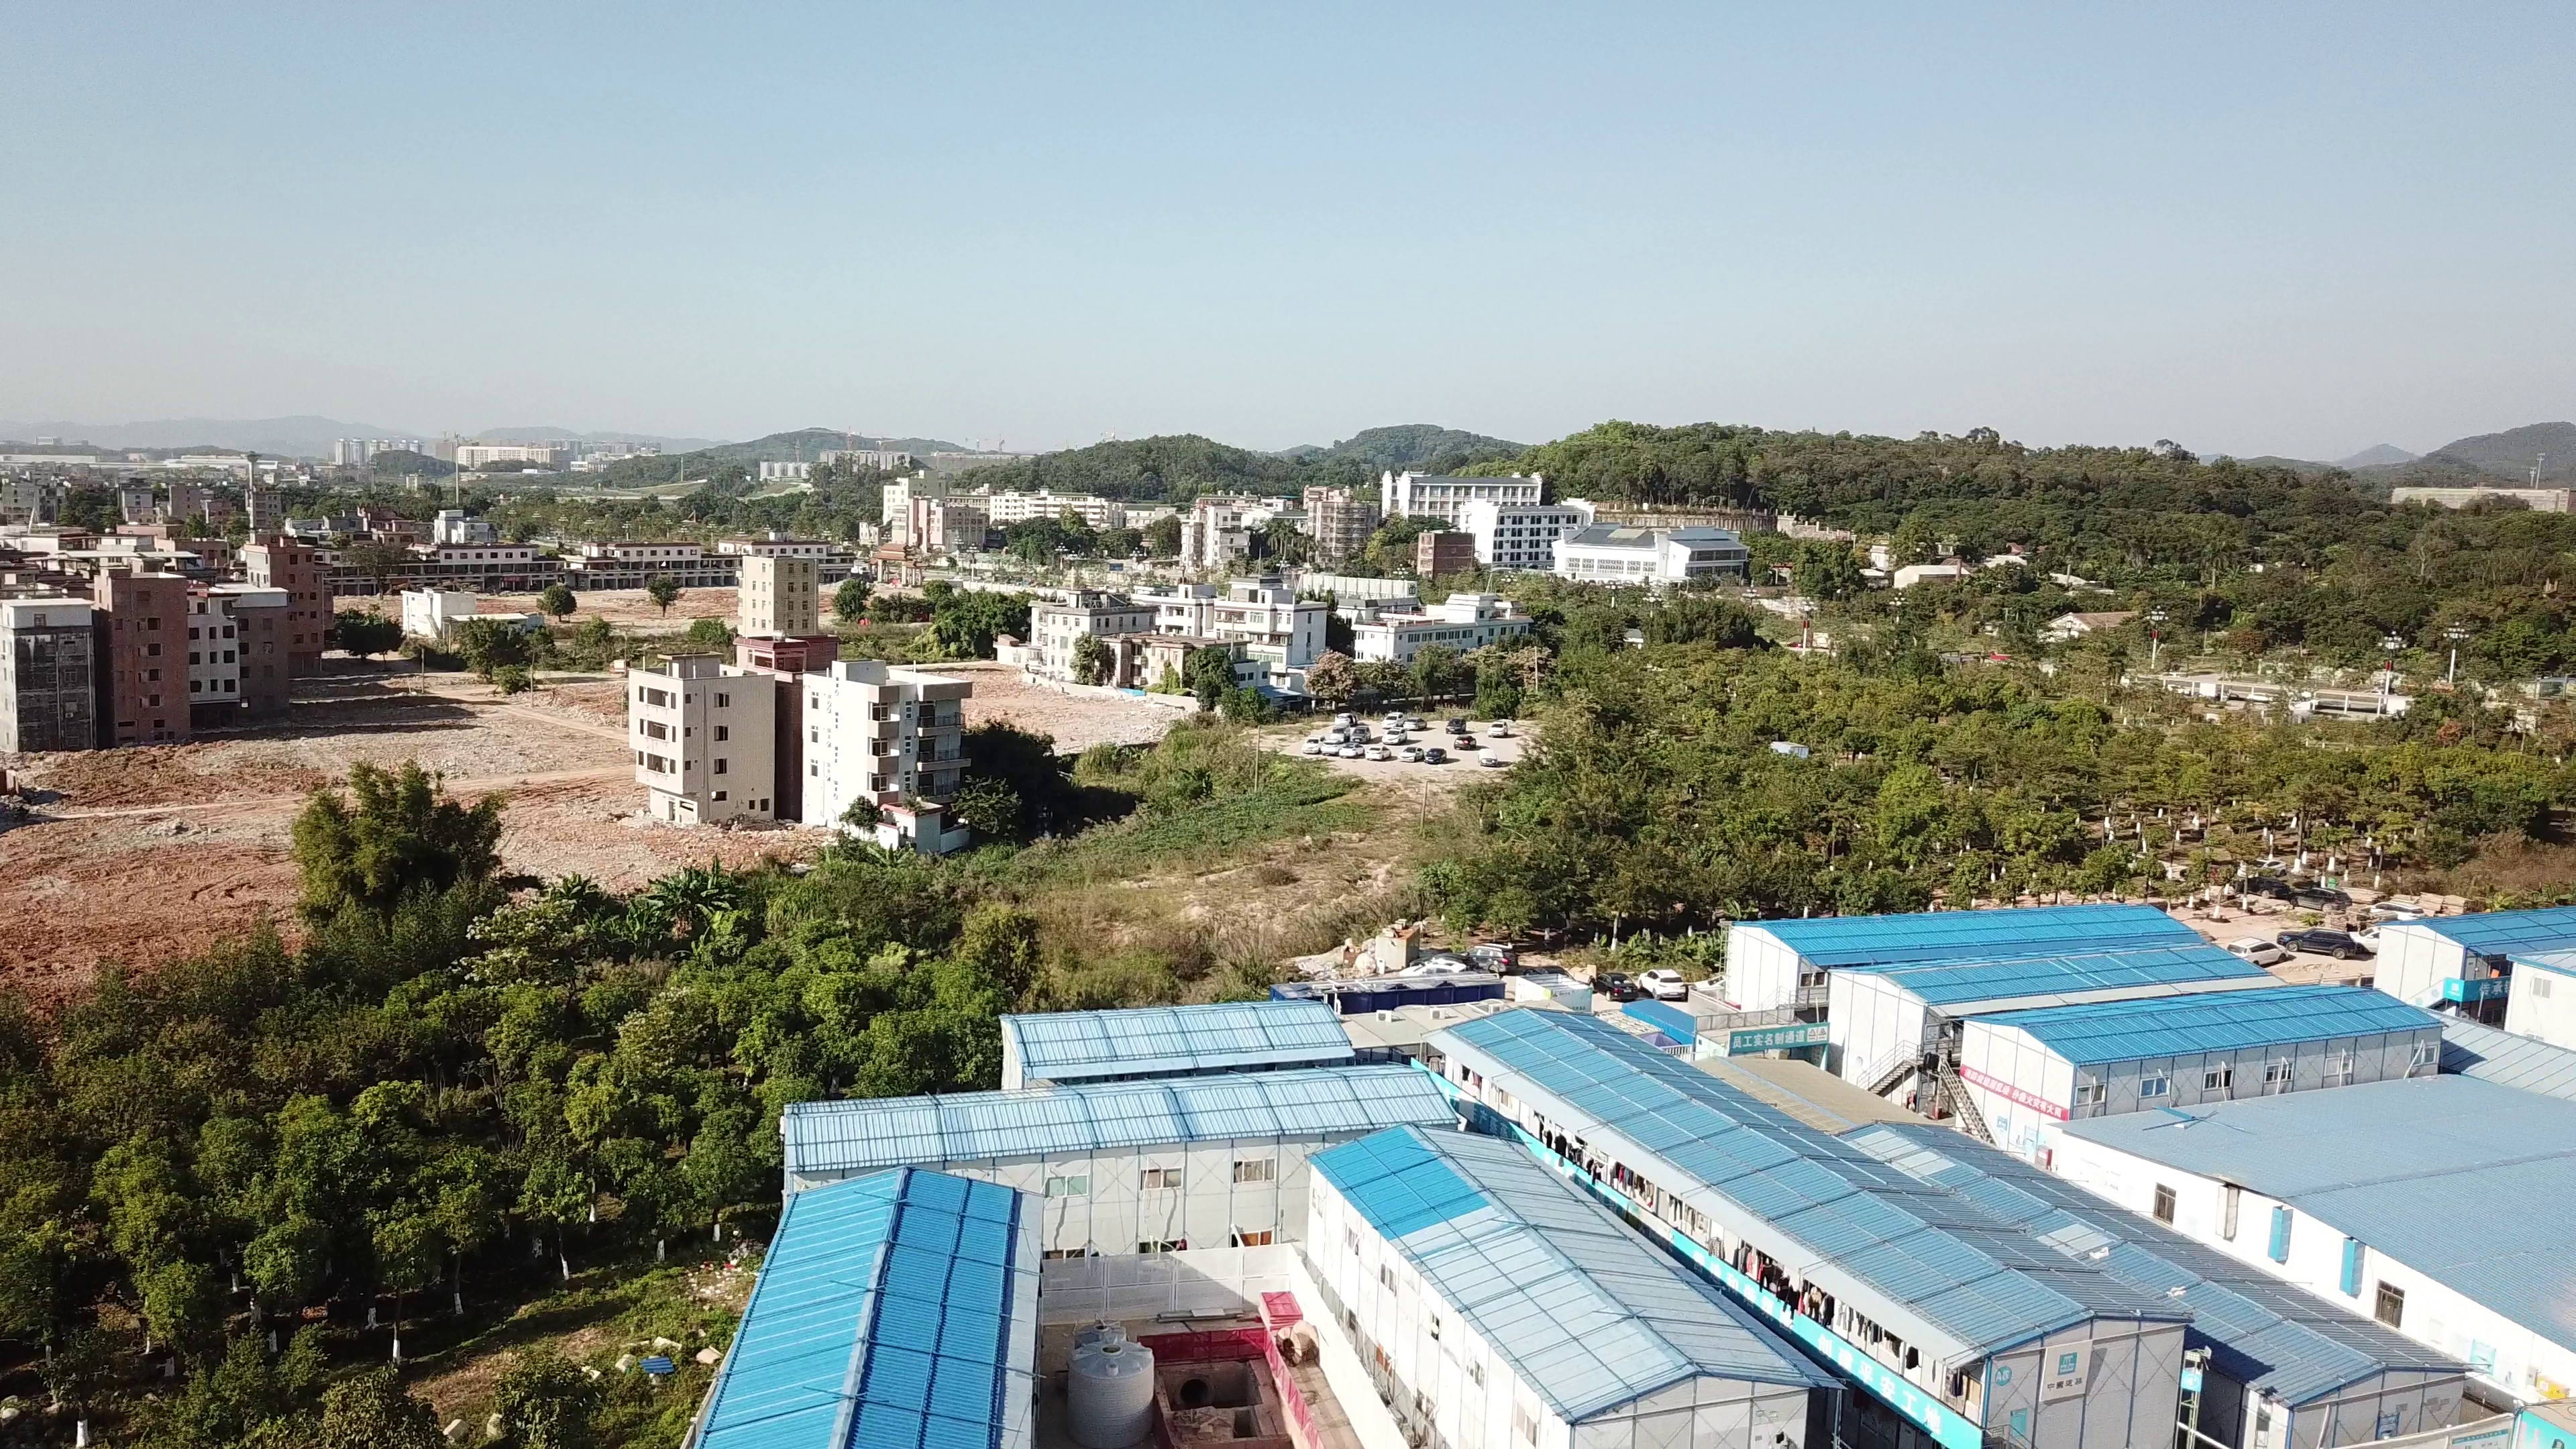slogan: (1688, 1254, 1941, 1435), (1960, 1062, 2068, 1122), (1737, 1026, 1824, 1046)
